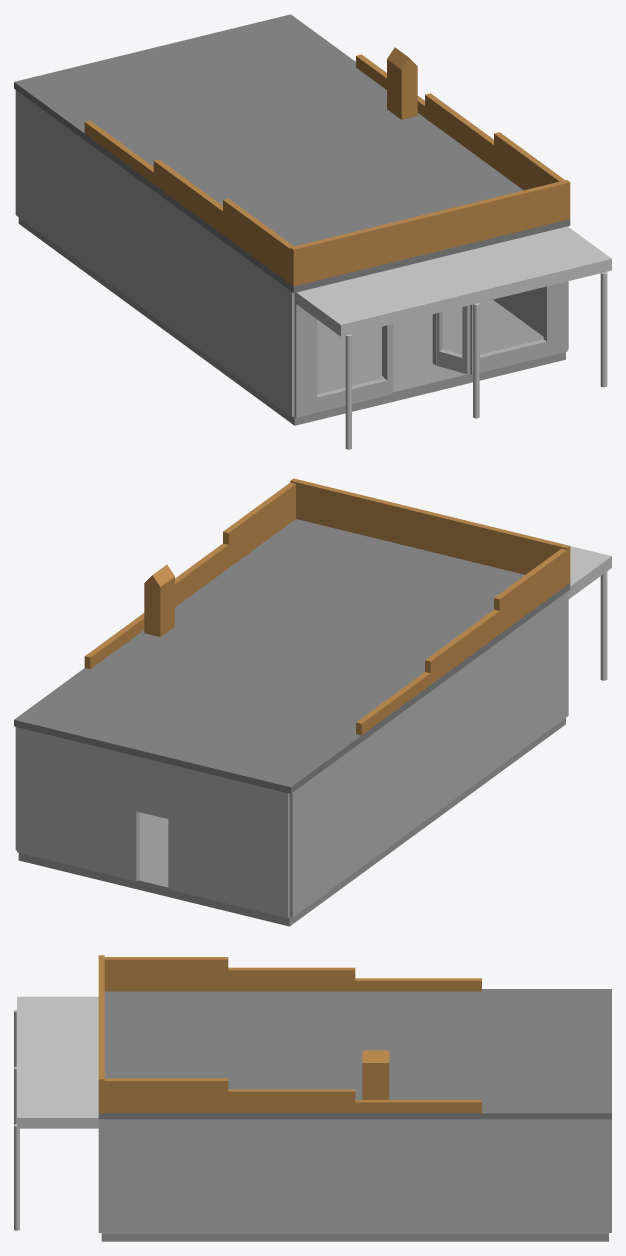
The model's file is building_phase_1a_iter_049.glb.
3 renders of one model, top to bottom at view 1: azimuth 30°, elevation 25°; view 2: azimuth 150°, elevation 25°; view 3: azimuth 270°, elevation 25°, orthographic. The views are drawn at different scales.
Visible parts, largest first — view 1: Roof, Wall_Left, Canopy_Roof, Foundation, Parapet_Front, Wall_Front, Parapet_Left_Level_1, Parapet_Right_Level_1, Parapet_Left_Level_2, Parapet_Right_Level_2, Chimney, Wall_Right (+6 smaller); view 2: Roof, Wall_Left, Wall_Rear, Parapet_Front, Foundation, Parapet_Left_Level_1, Parapet_Right_Level_1, Parapet_Left_Level_2, Parapet_Right_Level_2, Chimney, Canopy_Roof, Parapet_Left_Level_3 (+2 smaller); view 3: Wall_Right, Roof, Canopy_Roof, Parapet_Right_Level_1, Parapet_Left_Level_1, Foundation, Parapet_Left_Level_2, Parapet_Right_Level_2, Parapet_Left_Level_3, Parapet_Right_Level_3, Parapet_Front, Chimney (+2 smaller).
Boxes of the visible parts, left/top/right/bottom form: Roof: left=14, top=14, right=570, bottom=293; Wall_Left: left=15, top=90, right=294, bottom=416; Canopy_Roof: left=296, top=226, right=611, bottom=336; Foundation: left=18, top=217, right=565, bottom=425; Parapet_Front: left=290, top=180, right=570, bottom=286; Wall_Front: left=294, top=281, right=567, bottom=417; Parapet_Left_Level_1: left=223, top=198, right=293, bottom=283; Parapet_Right_Level_1: left=494, top=132, right=564, bottom=190; Parapet_Left_Level_2: left=153, top=159, right=222, bottom=234; Parapet_Right_Level_2: left=425, top=93, right=493, bottom=168; Chimney: left=387, top=59, right=417, bottom=119; Wall_Right: left=493, top=226, right=568, bottom=349; Roof: left=14, top=519, right=570, bottom=793; Wall_Left: left=289, top=591, right=568, bottom=917; Wall_Rear: left=17, top=727, right=289, bottom=918; Parapet_Front: left=290, top=478, right=570, bottom=584; Foundation: left=18, top=718, right=565, bottom=926; Parapet_Left_Level_1: left=494, top=548, right=567, bottom=633; Parapet_Right_Level_1: left=223, top=482, right=295, bottom=567; Parapet_Left_Level_2: left=425, top=609, right=499, bottom=684; Parapet_Right_Level_2: left=175, top=543, right=228, bottom=606; Chimney: left=144, top=576, right=174, bottom=636; Canopy_Roof: left=568, top=546, right=611, bottom=598; Parapet_Left_Level_3: left=356, top=672, right=430, bottom=735; Wall_Right: left=101, top=1119, right=608, bottom=1234; Roof: left=98, top=989, right=611, bottom=1119; Canopy_Roof: left=17, top=996, right=101, bottom=1128; Parapet_Right_Level_1: left=101, top=1078, right=228, bottom=1113; Parapet_Left_Level_1: left=104, top=957, right=228, bottom=991; Foundation: left=101, top=1234, right=608, bottom=1241; Parapet_Left_Level_2: left=228, top=967, right=355, bottom=991; Parapet_Right_Level_2: left=228, top=1089, right=355, bottom=1113; Parapet_Left_Level_3: left=355, top=978, right=481, bottom=991; Parapet_Right_Level_3: left=355, top=1100, right=481, bottom=1113; Parapet_Front: left=98, top=955, right=104, bottom=1113; Chimney: left=362, top=1063, right=389, bottom=1099.
Size of the model in its own units: 8.68 by 6.03 by 17.68.
